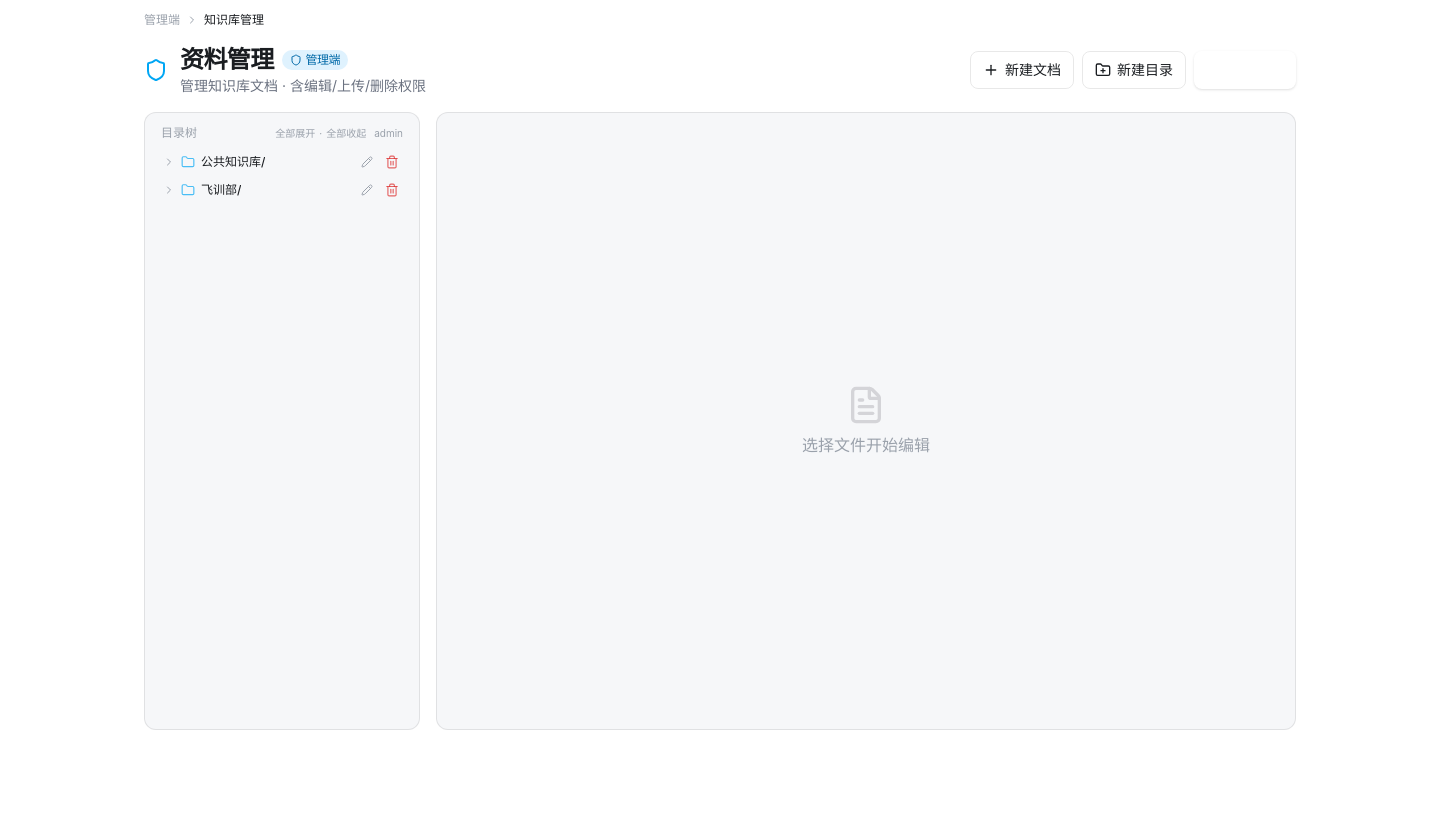
Test: 知识库管理页 · 目录树折叠 › 「全部展开」一次展开所有层级
Expected: the text "公共知识库/" is shown, [201,154,266,170]
Click the button "全部展开" at (295, 133), box [275,126,315,140]
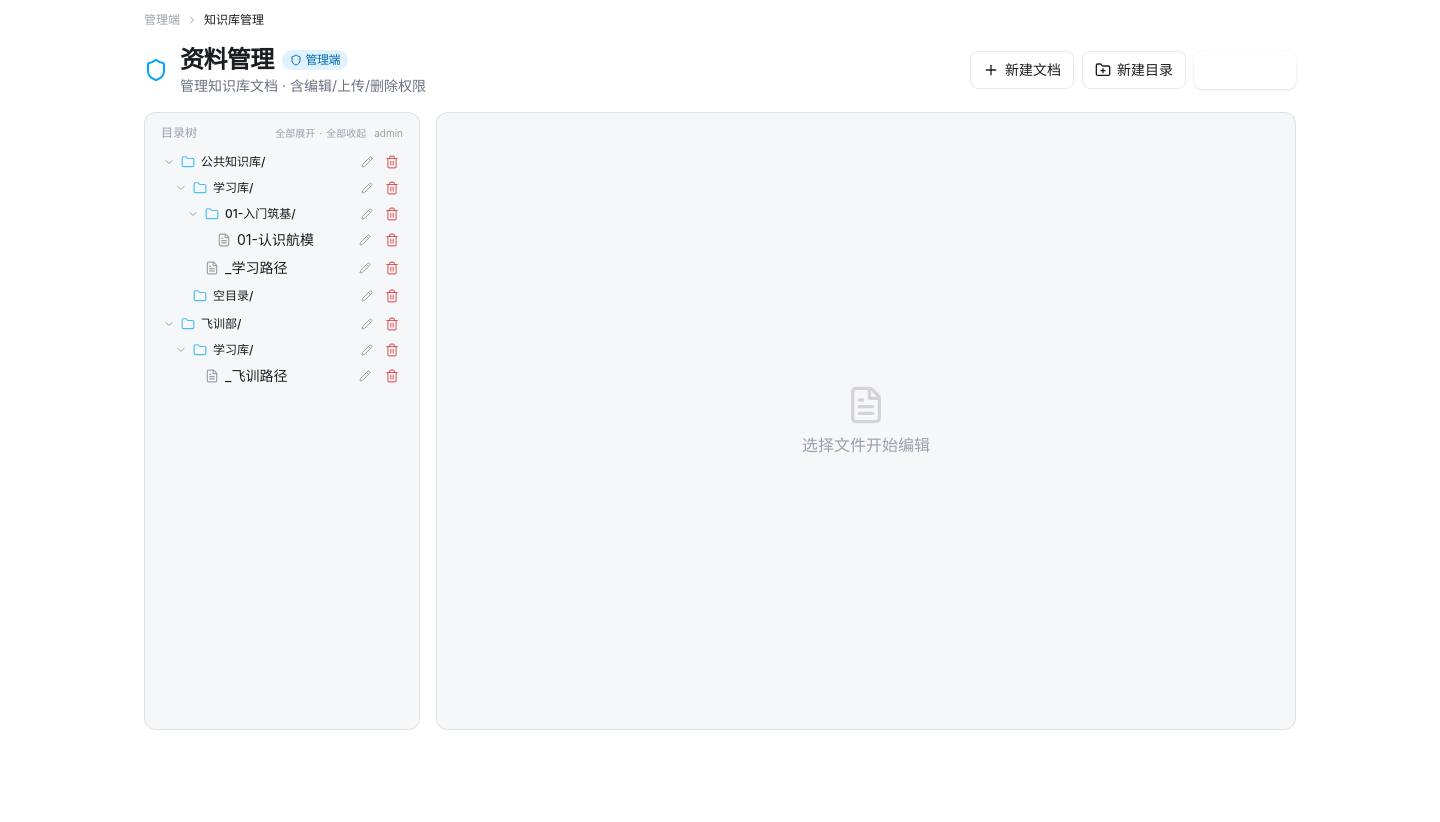
Expected: the text "_学习路径" is shown, [225,258,287,278]
Expected: the text "01-认识航模" is shown, [237,230,314,250]
Expected: the text "_飞训路径" is shown, [225,366,287,386]
